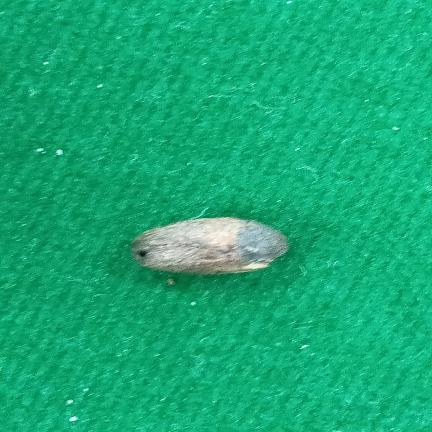partial-black: (131, 217, 289, 275)
